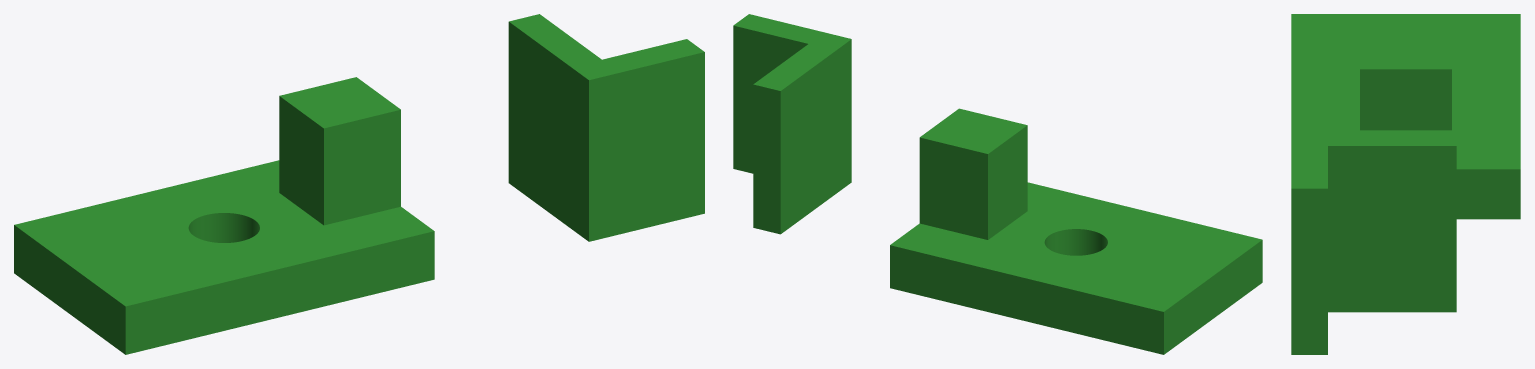
Rendered from b_assy_rt.gltf.
The picture shows the model from 3 angles, left to right: view 1: azimuth 30°, elevation 25°; view 2: azimuth 150°, elevation 25°; view 3: azimuth 270°, elevation 25°; orthographic projection. The views are drawn at different scales.
Parts seen in each view (by area): view 1: IMPORTED; view 2: IMPORTED; view 3: IMPORTED.
Part boxes in pixels (x1,y1,x2,y2): IMPORTED: (14,14,704,354); IMPORTED: (733,14,1262,354); IMPORTED: (1291,14,1520,354).
Bounding box in the file's own units: 75 × 20 × 25.
